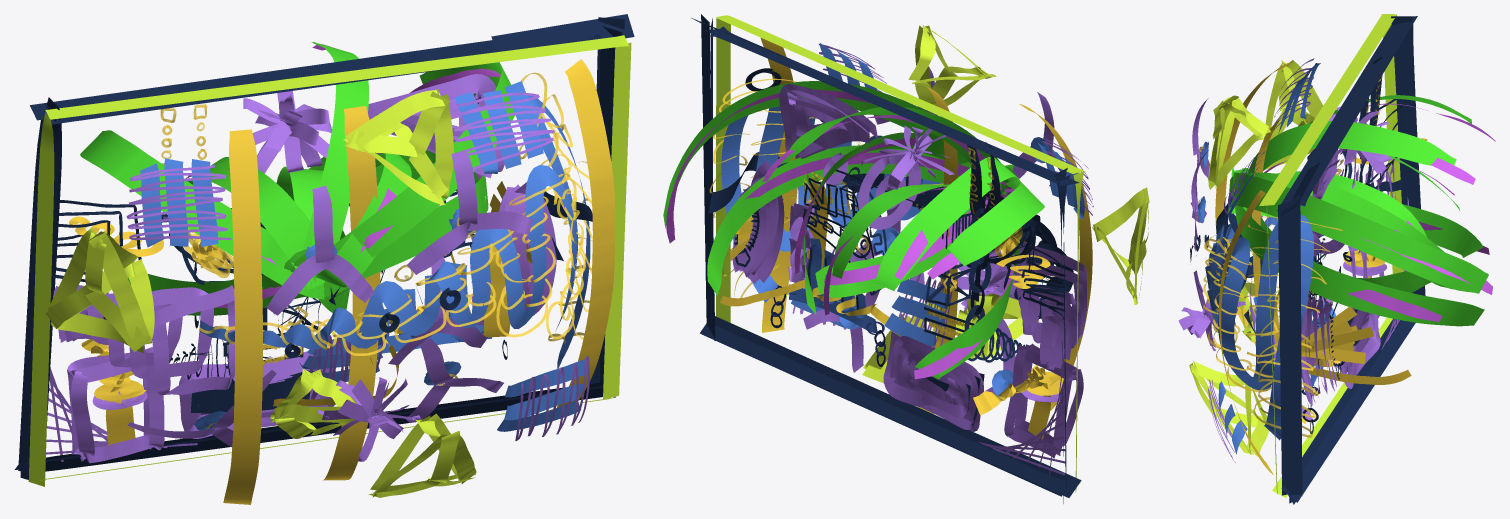
3 views of the same model, side by side, from view 1: azimuth 30°, elevation 25°; view 2: azimuth 150°, elevation 25°; view 3: azimuth 270°, elevation 25° (orthographic). The views are drawn at different scales.
Parts seen in each view (by area): view 1: All_Thick_Paint, All_Plasma, All_Taffy, All_Paper, All_Fire, All_Light, All_Marker; view 2: All_Thick_Paint, All_Taffy, All_Paper, All_Plasma, All_Marker, All_Fire, All_Light; view 3: All_Thick_Paint, All_Taffy, All_Plasma, All_Paper, All_Fire, All_Light, All_Marker.
Part boxes in pixels (left/top/right/bottom): All_Thick_Paint: left=46, top=42, right=589, bottom=463; All_Plasma: left=28, top=35, right=631, bottom=497; All_Taffy: left=15, top=14, right=634, bottom=479; All_Paper: left=127, top=74, right=589, bottom=447; All_Fire: left=69, top=59, right=615, bottom=504; All_Light: left=160, top=72, right=592, bottom=429; All_Marker: left=53, top=181, right=507, bottom=413; All_Thick_Paint: left=663, top=44, right=1093, bottom=475; All_Taffy: left=691, top=14, right=1081, bottom=503; All_Paper: left=732, top=43, right=1084, bottom=431; All_Plasma: left=716, top=15, right=1149, bottom=492; All_Marker: left=734, top=68, right=1065, bottom=425; All_Fire: left=720, top=38, right=1092, bottom=438; All_Light: left=709, top=78, right=1048, bottom=336; All_Thick_Paint: left=1178, top=58, right=1495, bottom=462; All_Taffy: left=1205, top=16, right=1425, bottom=504; All_Plasma: left=1189, top=14, right=1403, bottom=497; All_Paper: left=1190, top=63, right=1380, bottom=454; All_Fire: left=1215, top=62, right=1427, bottom=474; All_Light: left=1196, top=74, right=1382, bottom=437; All_Marker: left=1190, top=57, right=1407, bottom=434.
Size of the model in its own units: 2422 by 1742 by 1476.
